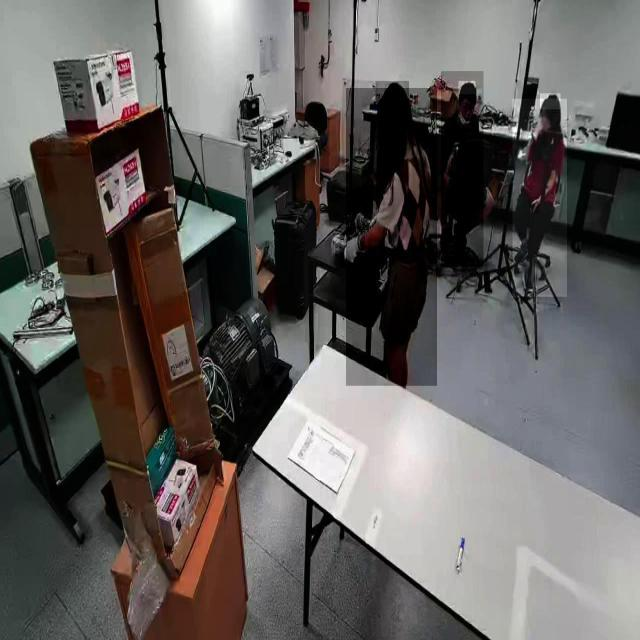hand_glove: (340, 226, 366, 268)
hand_noglove: (528, 197, 540, 215)
head_nohelmet: (376, 81, 410, 111), (540, 94, 561, 110), (458, 81, 476, 95)
person: (346, 88, 438, 387), (512, 99, 568, 298), (441, 71, 484, 268)
